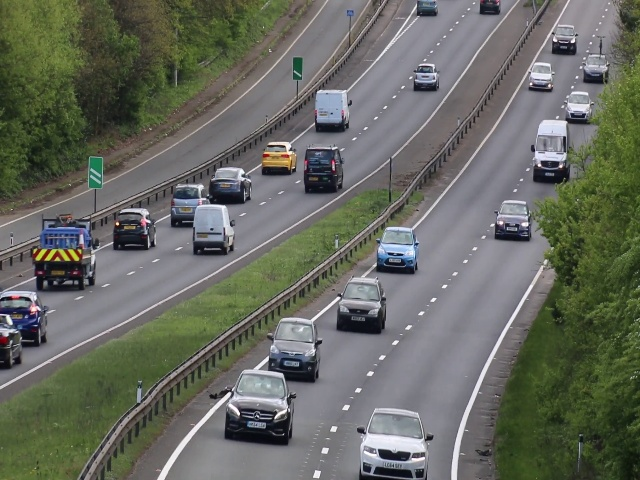car: (221, 370, 298, 444), (355, 404, 429, 480), (35, 219, 98, 289), (266, 317, 320, 373), (336, 275, 387, 333), (530, 122, 569, 181), (375, 223, 418, 272), (303, 146, 345, 192), (194, 206, 234, 254), (311, 87, 352, 133), (114, 208, 157, 251), (494, 197, 532, 241), (211, 163, 250, 201), (24, 292, 49, 346), (261, 139, 297, 176), (167, 182, 195, 224), (1, 314, 23, 365), (526, 60, 557, 91), (552, 23, 578, 55), (413, 63, 441, 91), (565, 91, 591, 119), (585, 56, 607, 84)
